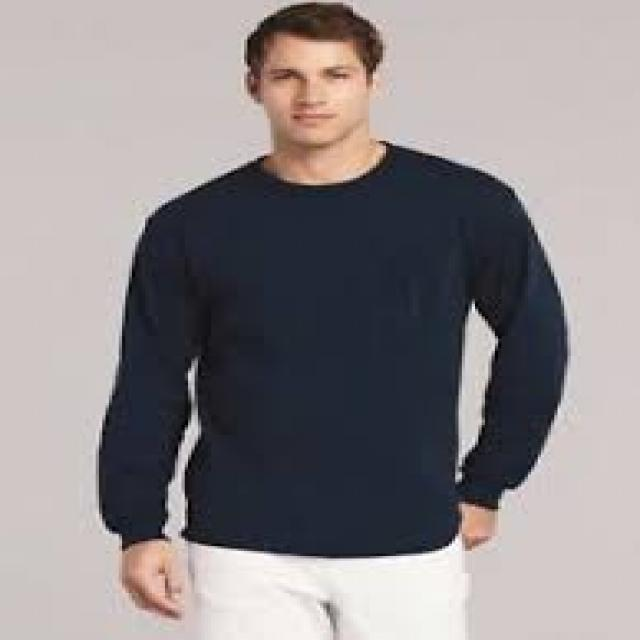plain: (99, 148, 571, 555)
